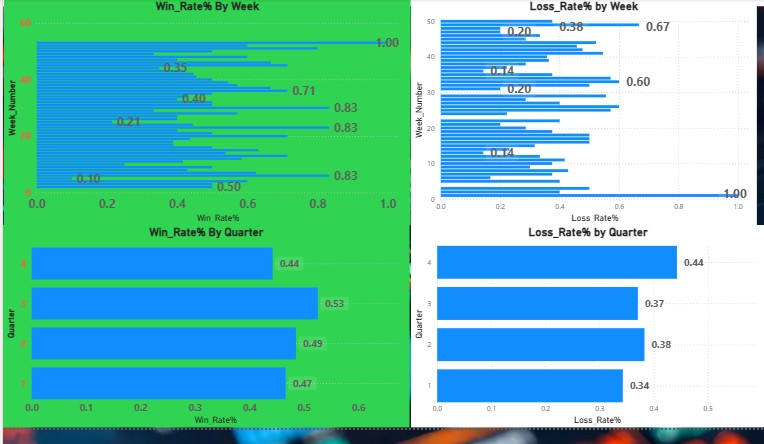

The page's visual inventory and layout, read from the dashboard file:
{"tool":"powerbi","page":{"name":"Page 3","canvas":[1280,720],"ordinal":2},"visuals":[{"type":"clusteredBarChart","title":"Win_Rate% By Week","fields":{"Y":["Trade Data(Merged).Win_Rate%"],"Category":["Trade Data(Merged).Week_Number"]},"box":[1.5,0,683.4,380.5],"z":0},{"type":"clusteredBarChart","title":"Loss_Rate% by Week","fields":{"Y":["Trade Data(Merged).Loss_Rate%"],"Category":["Trade Data(Merged).Week_Number"]},"box":[684.9,0,581,380.5],"z":1000},{"type":"clusteredBarChart","title":"Win_Rate% By Quarter","fields":{"Y":["Trade Data(Merged).Win_Rate%"],"Category":["Trade Data(Merged).Quarter"]},"box":[0,380.3,683.1,339.8],"z":2000},{"type":"clusteredBarChart","title":"Loss_Rate% by Quarter","fields":{"Y":["Trade Data(Merged).Loss_Rate%"],"Category":["Trade Data(Merged).Quarter"]},"box":[684.9,380.3,595.1,339.8],"z":3000}]}

Visuals, with their boxes on the page's 1280x720 design canvas (x1, y1, x2, y2). These are canvas units, not pixel positions in the 764x444 screenshot, which may show the page scaled, cropped or inside an application window:
"Win_Rate% By Week" clusteredBarChart: bbox=[2, 0, 685, 380]
"Loss_Rate% by Week" clusteredBarChart: bbox=[685, 0, 1266, 380]
"Win_Rate% By Quarter" clusteredBarChart: bbox=[0, 380, 683, 720]
"Loss_Rate% by Quarter" clusteredBarChart: bbox=[685, 380, 1280, 720]
